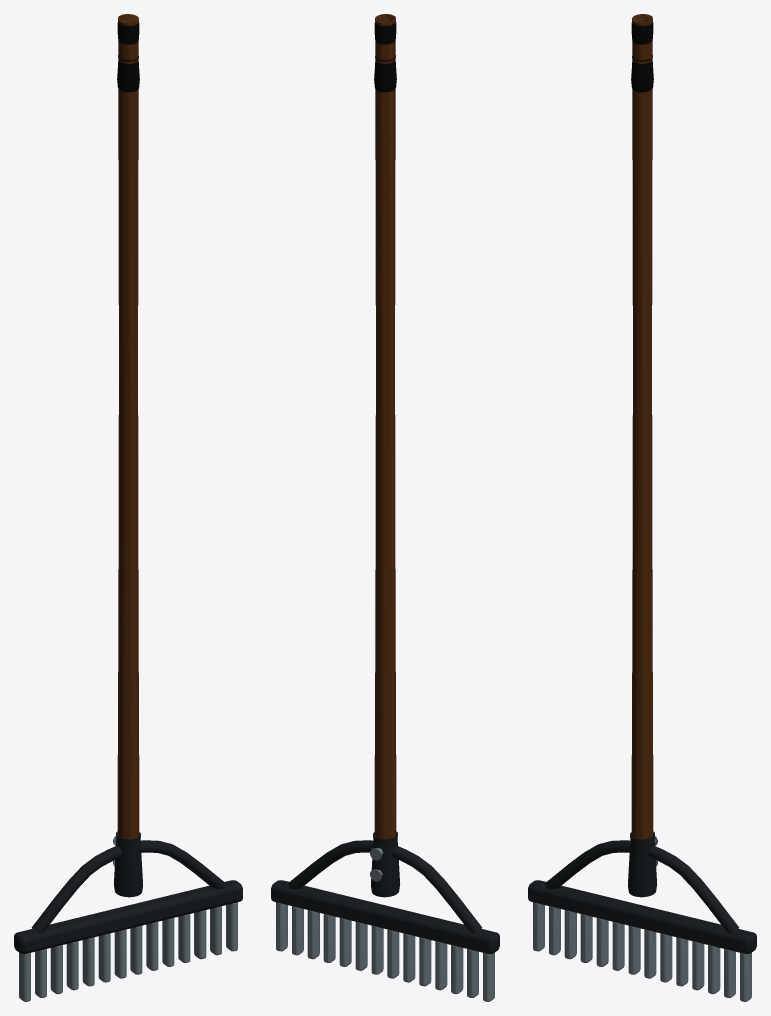
File: BowRake.gltf
3 views of the same model, side by side, from view 1: azimuth 30°, elevation 25°; view 2: azimuth 150°, elevation 25°; view 3: azimuth 330°, elevation 25° (orthographic).
Visible parts, largest first — view 1: BowRake__Body; view 2: BowRake__Body; view 3: BowRake__Body.
Boxes of the visible parts, x1=… form: BowRake__Body: x1=14, y1=14, x2=242, y2=1001; BowRake__Body: x1=271, y1=14, x2=499, y2=1001; BowRake__Body: x1=528, y1=14, x2=756, y2=1001.
Size of the model in its own units: 0.406 by 1.66 by 0.0555.
Materials: 1 (1 with a texture image).
